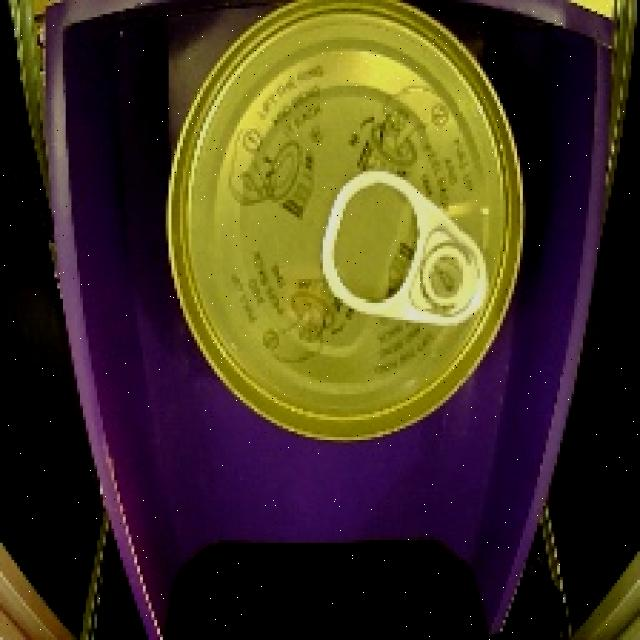metal: (149, 0, 538, 462)
